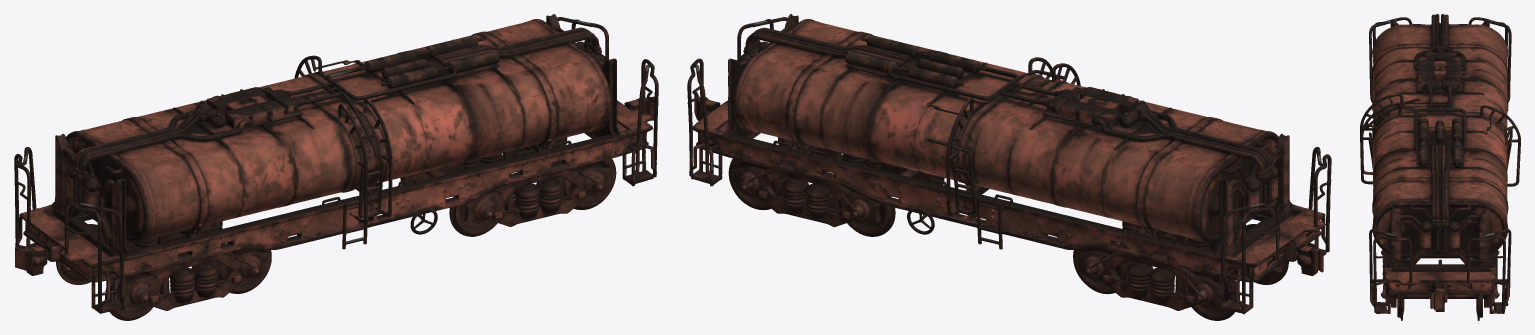
The model's file is rail_tanker.glb.
3 renders of one model, left to right at view 1: azimuth 30°, elevation 25°; view 2: azimuth 150°, elevation 25°; view 3: azimuth 270°, elevation 25°, orthographic. The views are drawn at different scales.
Visible parts, largest first — view 1: rail_tanker; view 2: rail_tanker; view 3: rail_tanker.
Boxes of the visible parts, left/top/right/bottom form: rail_tanker: left=14, top=14, right=658, bottom=320; rail_tanker: left=687, top=14, right=1331, bottom=320; rail_tanker: left=1360, top=14, right=1520, bottom=320.
Size of the model in its own units: 190 by 48.81 by 53.25.
Materials: 1 (1 with a texture image).
